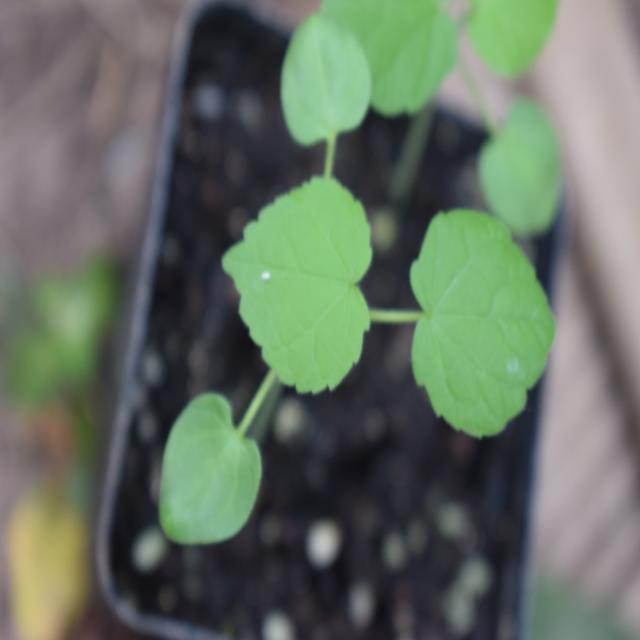abutilon theophrasti: (149, 116, 536, 528)
